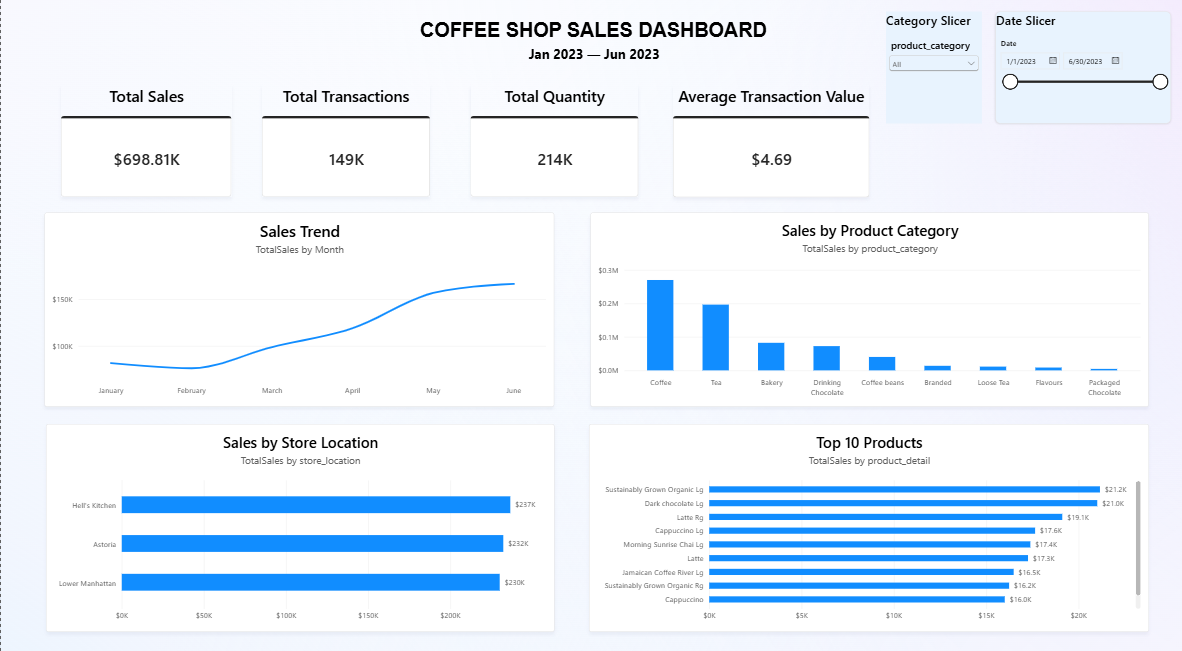

Layout of this report page (visuals, bound fields, positions):
{"tool":"powerbi","page":{"name":"Coffee Shop Executive Overview","canvas":[1920,1080],"ordinal":0},"visuals":[{"type":"lineChart","title":"Sales Trend","fields":{"Category":["DateTable.Date.Variation.Date Hierarchy.Year","DateTable.Date.Variation.Date Hierarchy.Quarter","DateTable.Date.Variation.Date Hierarchy.Month","DateTable.Date.Variation.Date Hierarchy.Day"],"Y":["CoffeShop.TotalSales"]},"box":[71.6,348.3,825.5,314.9],"z":0},{"type":"clusteredColumnChart","title":"Sales by Product Category","fields":{"Category":["CoffeShop.product_category"],"Y":["CoffeShop.TotalSales"]},"box":[954.4,348.3,904.3,314.9],"z":1000},{"type":"clusteredBarChart","title":"Sales by Store Location","fields":{"Category":["CoffeShop.store_location"],"Y":["CoffeShop.TotalSales"]},"box":[74,689.5,823.1,336.4],"z":2000},{"type":"clusteredBarChart","title":"Top 10 Products","fields":{"Category":["CoffeShop.product_detail"],"Y":["CoffeShop.TotalSales"]},"box":[952,689.5,906.6,336.4],"z":3000},{"type":"cardVisual","title":"Total Sales","fields":{"Data":["CoffeShop.TotalSales"]},"box":[97.8,140.8,276.8,181.3],"z":4000},{"type":"cardVisual","title":"Total Transactions","fields":{"Data":["CoffeShop.Total Transactions"]},"box":[422.3,140.8,272.1,181.4],"z":5000},{"type":"cardVisual","title":"Average Transaction Value","fields":{"Data":["CoffeShop.Average Transaction Value"]},"box":[1088.1,140.9,318.2,182.2],"z":6000},{"type":"cardVisual","title":"Total Quantity","fields":{"Data":["CoffeShop.Total Quantity"]},"box":[761.1,140.8,272.1,181.4],"z":7000},{"type":"slicer","title":"Date Slicer","fields":{"Values":["DateTable.Date"]},"box":[1610.5,21.5,283.9,181.3],"z":8000},{"type":"slicer","title":"Category Slicer","fields":{"Values":["CoffeShop.product_category"]},"box":[1433.9,21.5,155.1,181.3],"z":9000},{"type":"textbox","box":[610.8,33.4,699.1,42.9],"z":10000},{"type":"textbox","box":[830.3,76.3,260.1,35.8],"z":11000}]}

Visuals, with their boxes in screenshot pixels (x1, y1, x2, y2), scaled from the page's 1920x1080 canvas onto the 1182x651 screenshot:
"Sales Trend" lineChart: (x1=44, y1=210, x2=552, y2=400)
"Sales by Product Category" clusteredColumnChart: (x1=588, y1=210, x2=1144, y2=400)
"Sales by Store Location" clusteredBarChart: (x1=46, y1=416, x2=552, y2=618)
"Top 10 Products" clusteredBarChart: (x1=586, y1=416, x2=1144, y2=618)
"Total Sales" cardVisual: (x1=60, y1=85, x2=231, y2=194)
"Total Transactions" cardVisual: (x1=260, y1=85, x2=427, y2=194)
"Average Transaction Value" cardVisual: (x1=670, y1=85, x2=866, y2=195)
"Total Quantity" cardVisual: (x1=469, y1=85, x2=636, y2=194)
"Date Slicer" slicer: (x1=991, y1=13, x2=1166, y2=122)
"Category Slicer" slicer: (x1=883, y1=13, x2=978, y2=122)
textbox: (x1=376, y1=20, x2=806, y2=46)
textbox: (x1=511, y1=46, x2=671, y2=68)
